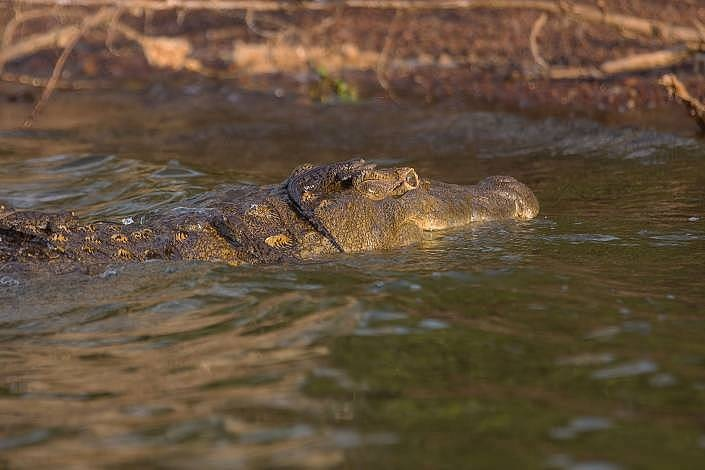crocodile: (0, 151, 541, 286)
